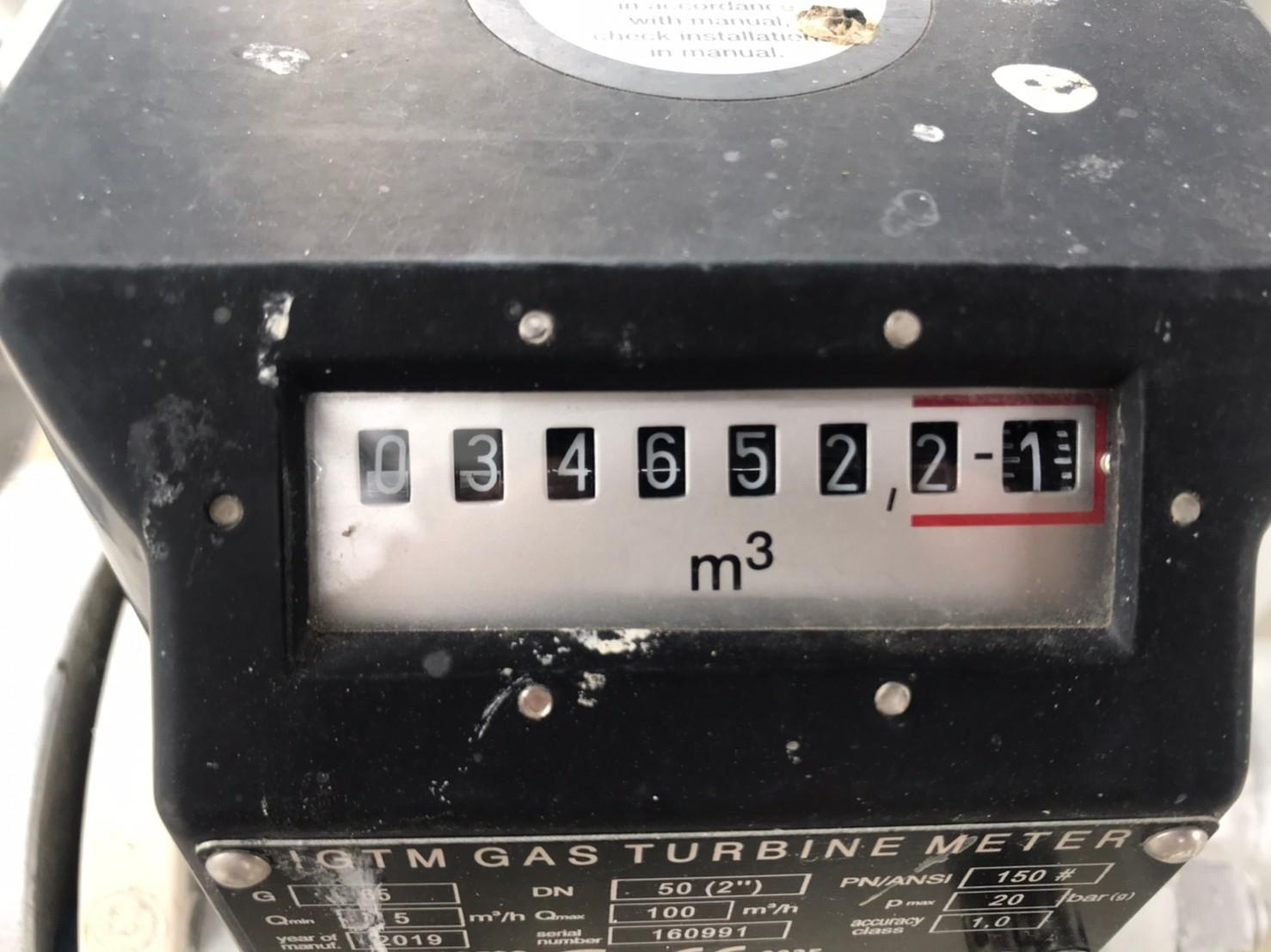analog_dial: (310, 389, 1122, 632)
